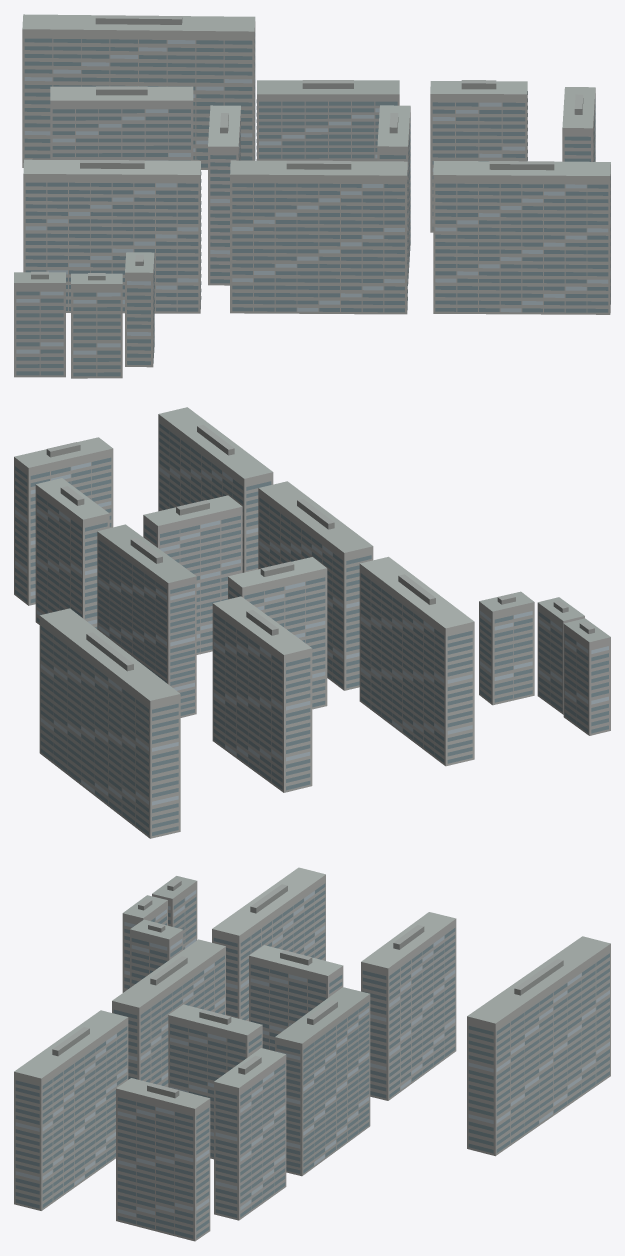
Rendered from apt-a15010502.glb.
3 views of the same model, one above another, from view 1: azimuth 30°, elevation 25°; view 2: azimuth 150°, elevation 25°; view 3: azimuth 270°, elevation 25° (orthographic). The views are drawn at different scales.
Parts seen in each view (by area): view 1: apt-a15010502; view 2: apt-a15010502; view 3: apt-a15010502.
Part boxes in pixels (box(x1,y1,x2,y2)): apt-a15010502: box(14, 14, 610, 378); apt-a15010502: box(14, 407, 610, 838); apt-a15010502: box(14, 867, 610, 1241).
Size of the model in its own units: 257 by 60 by 235.
